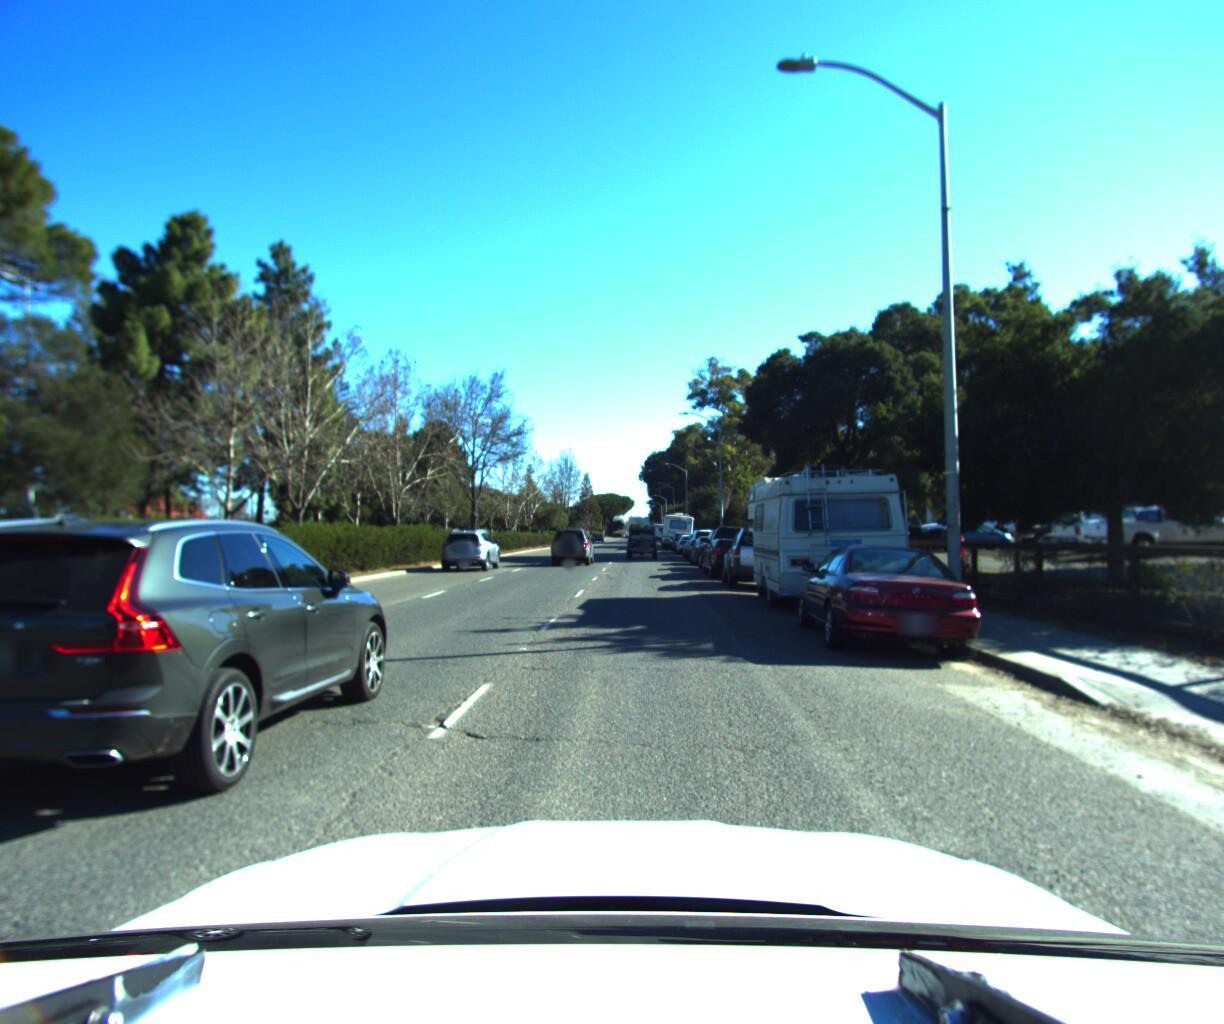car: (794, 535, 996, 664), (723, 522, 795, 578), (703, 520, 772, 576), (439, 527, 501, 571), (547, 523, 597, 565), (683, 523, 730, 559), (621, 515, 661, 554), (688, 531, 733, 563)
other_vehicle: (741, 451, 924, 616), (658, 508, 693, 545)
